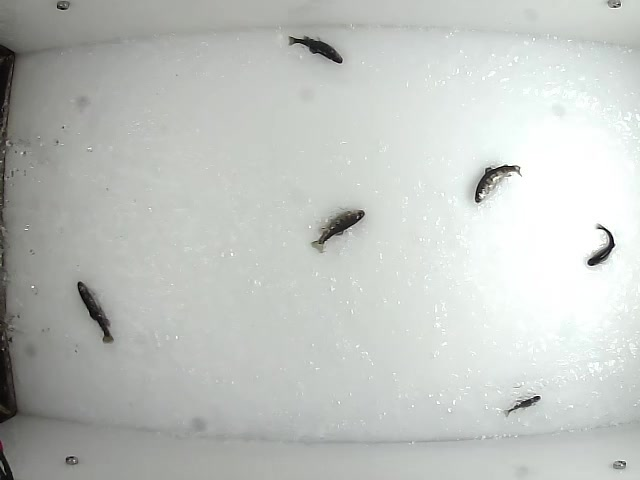fish: (307, 208, 368, 255), (75, 277, 117, 344), (472, 163, 525, 204), (285, 32, 345, 66), (583, 221, 616, 266), (498, 392, 543, 420)
